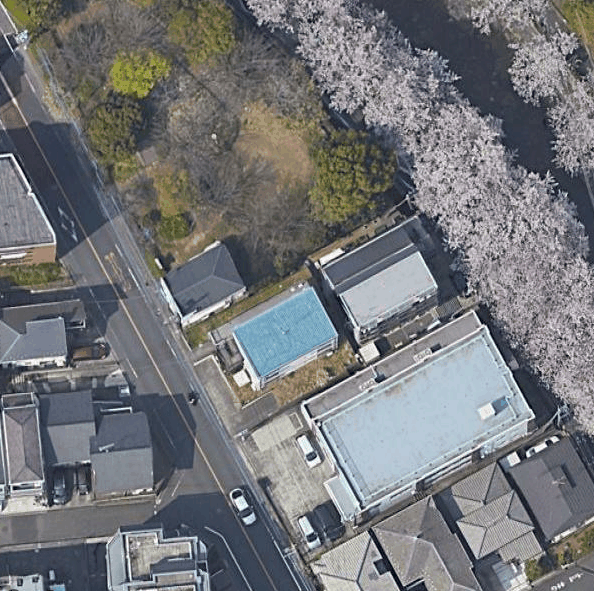flatroof: (288, 300, 538, 513)
